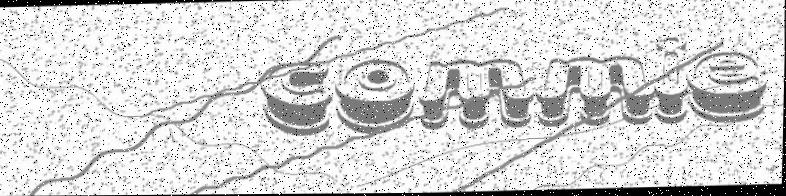c: (259, 60, 334, 138)
e: (687, 50, 770, 124)
i: (654, 35, 690, 127)
m: (535, 55, 655, 129), (417, 56, 535, 131)
o: (333, 58, 417, 136)
